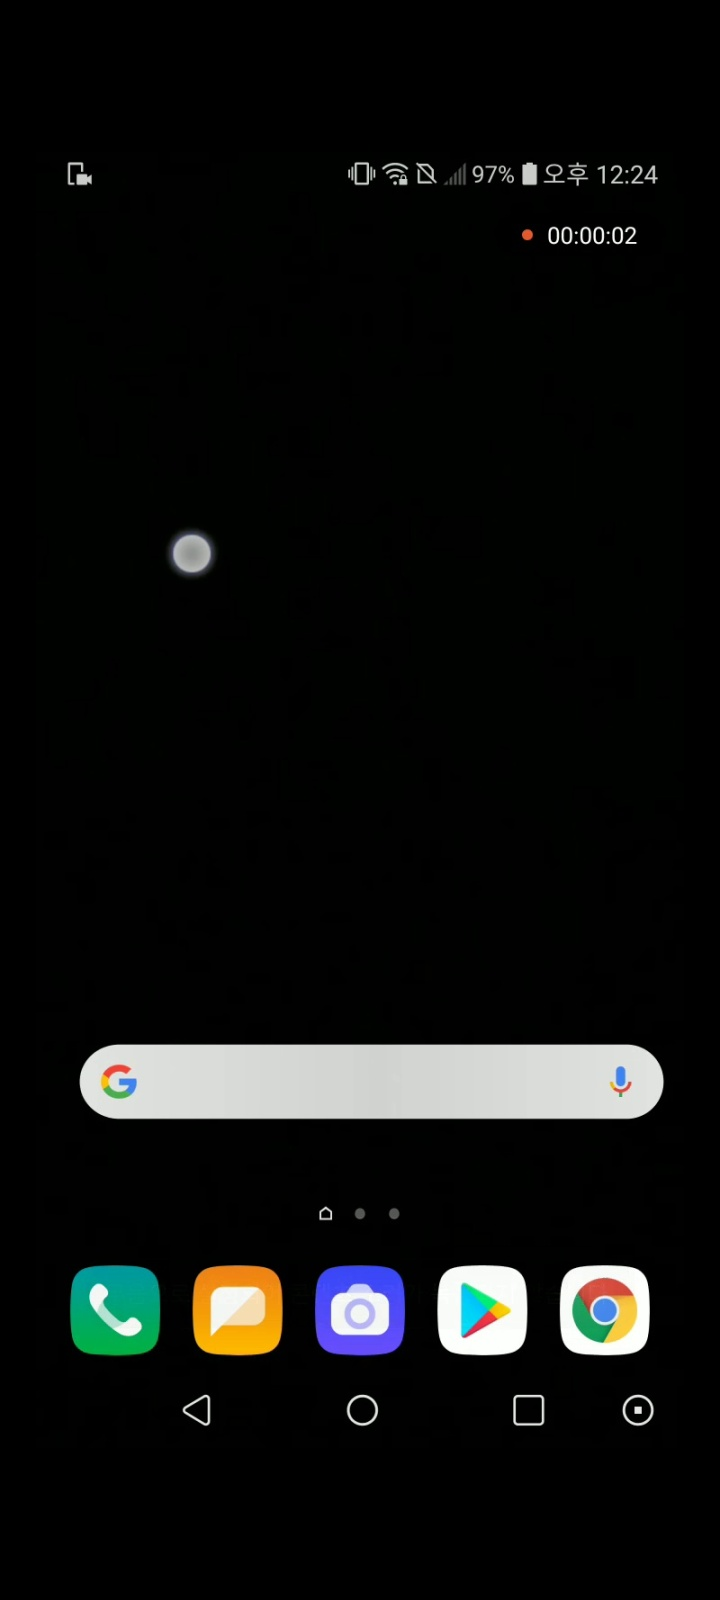Cursor: (170, 530, 215, 576)
